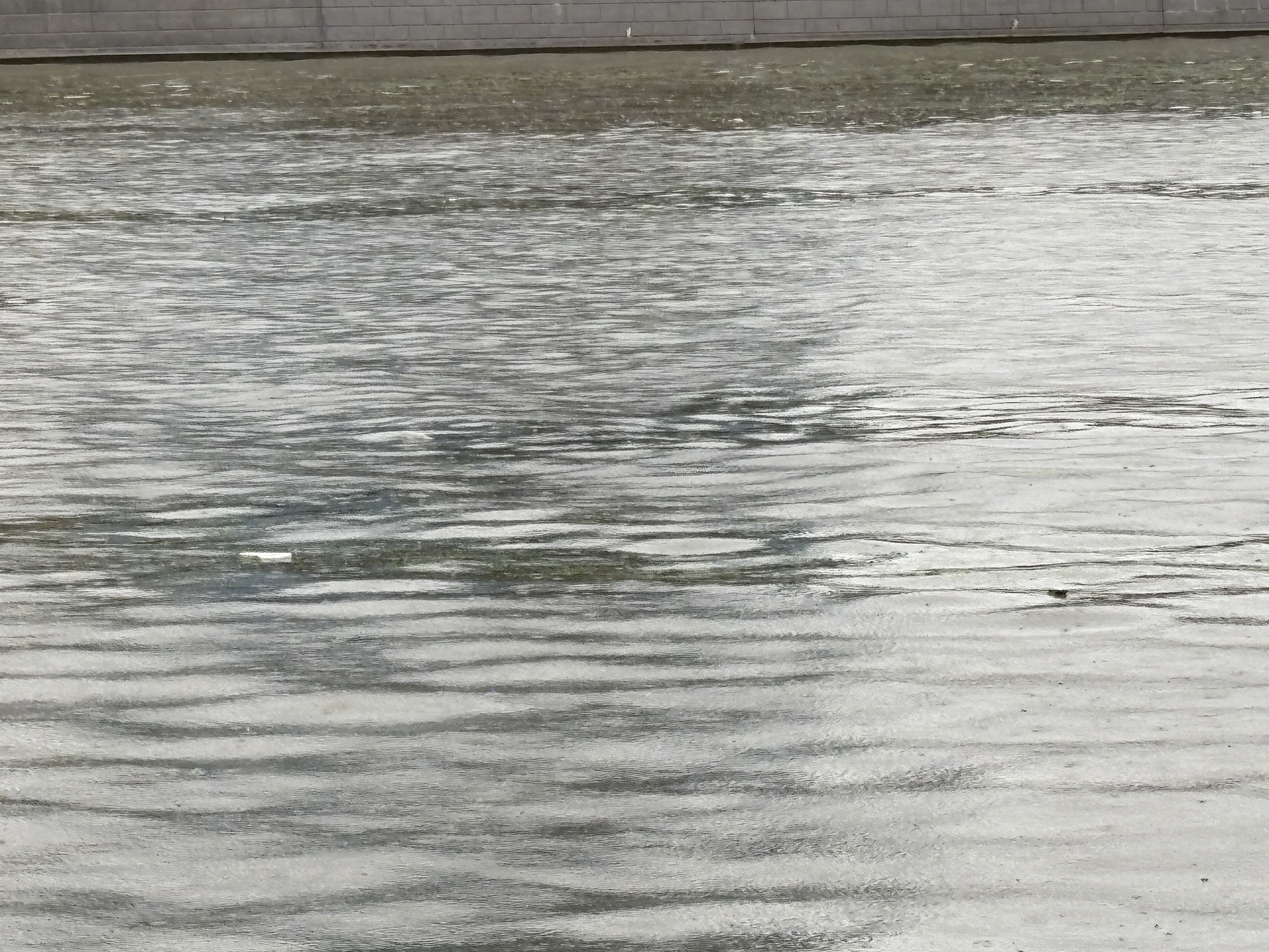Plastic wastes: (233, 545, 305, 568), (1043, 583, 1069, 599)
